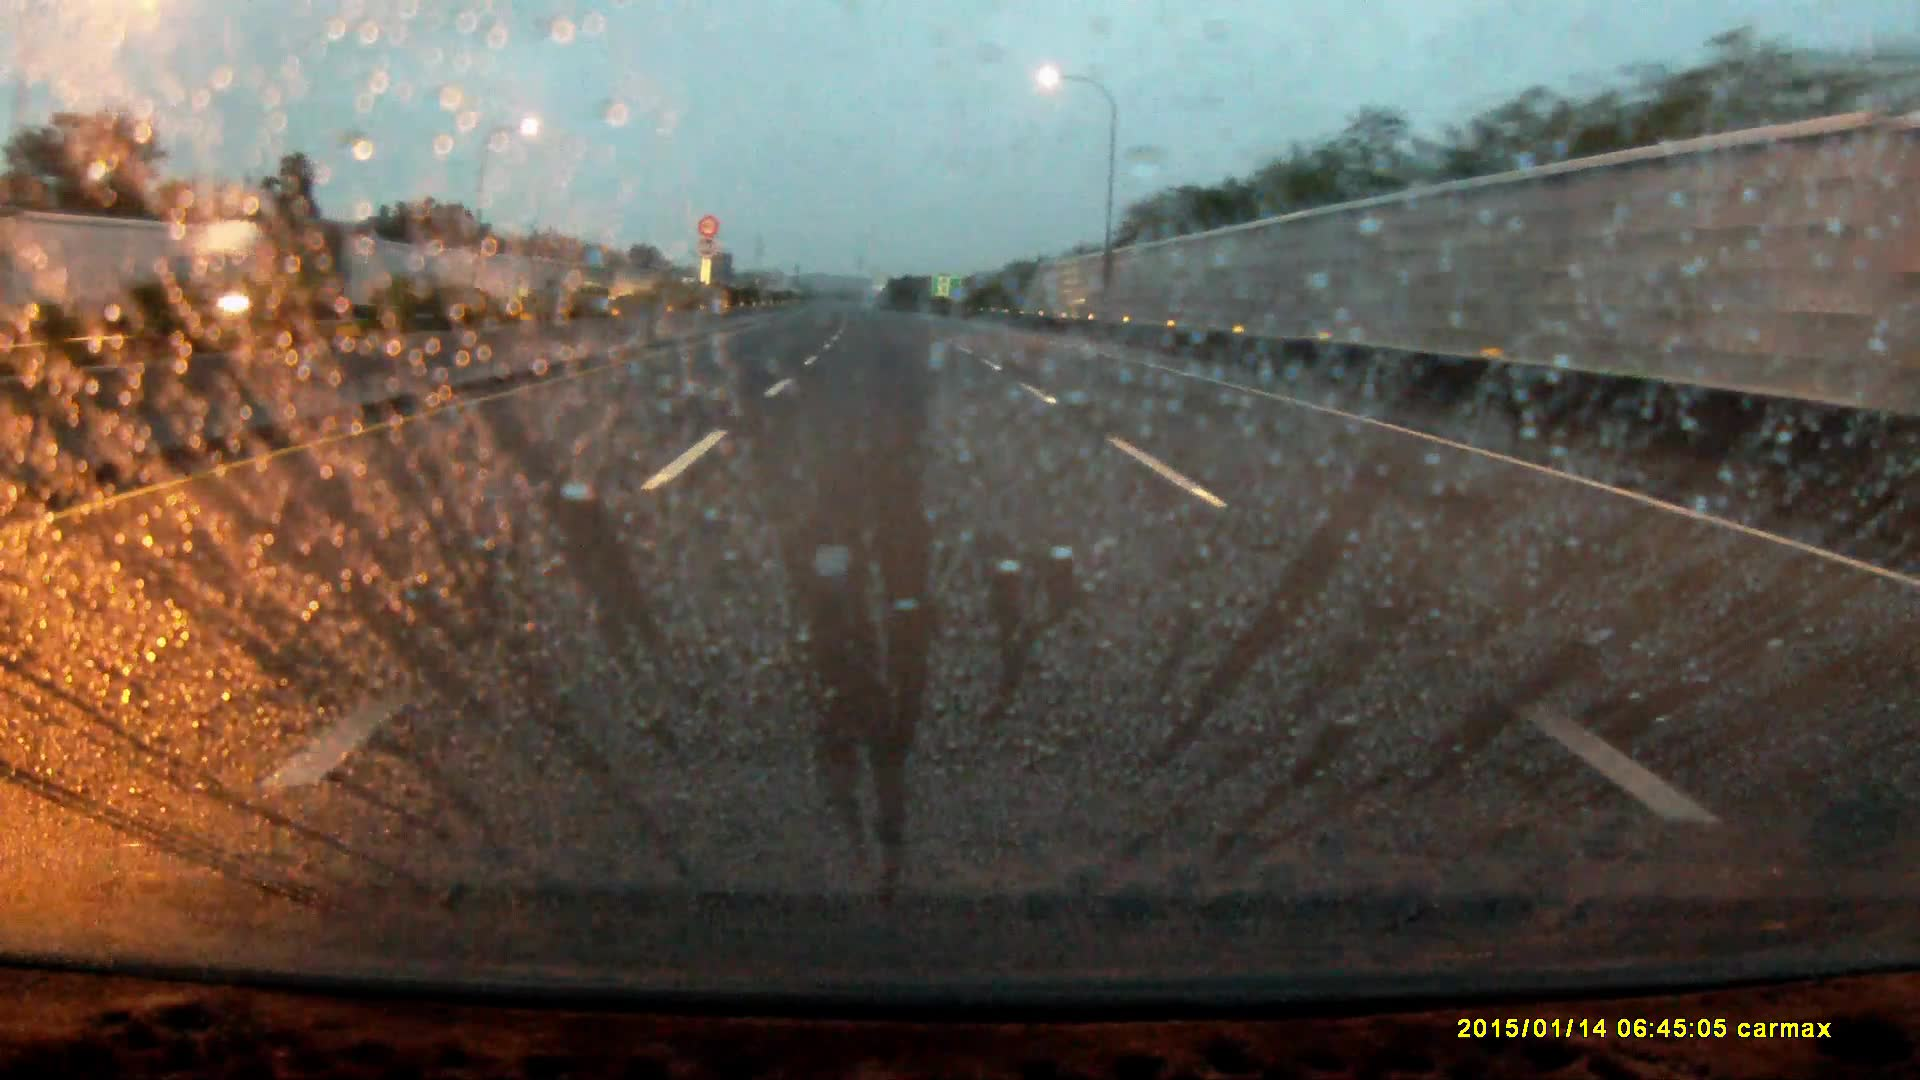vehicle: (167, 214, 353, 330)
